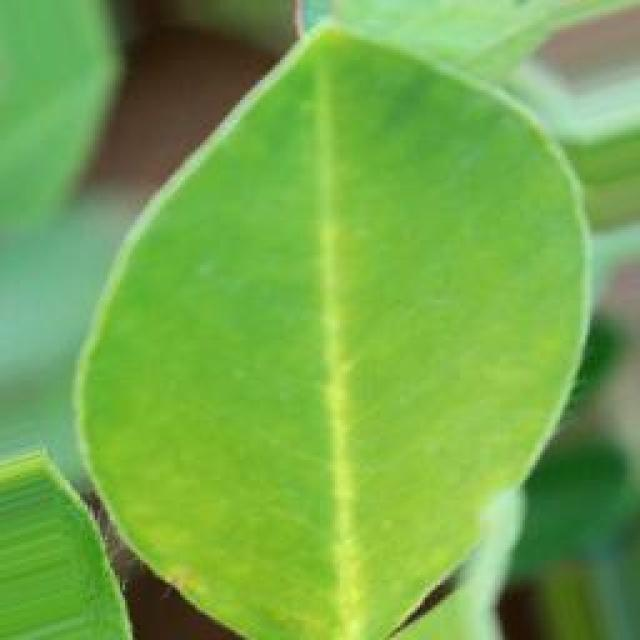Yellow_and_black_sigatoka: (83, 24, 603, 638)
